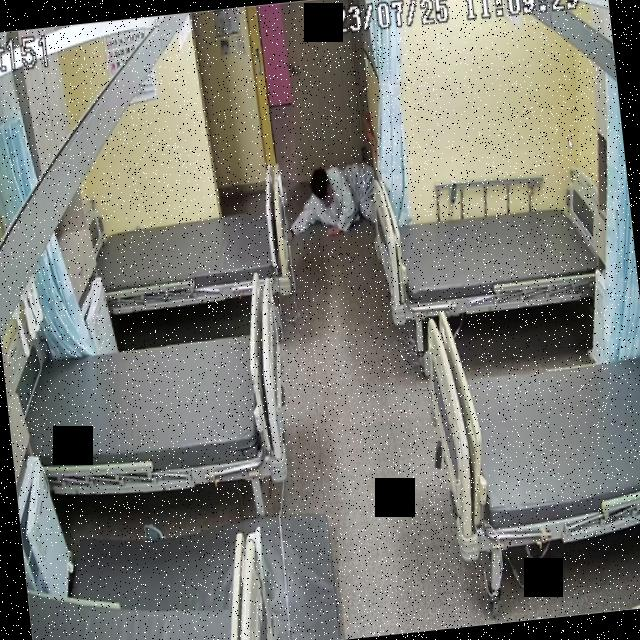bed: (420, 290, 640, 557), (16, 322, 293, 502), (370, 182, 616, 326), (93, 196, 291, 313)
fall: (280, 155, 384, 242)
patient: (280, 156, 382, 240)
